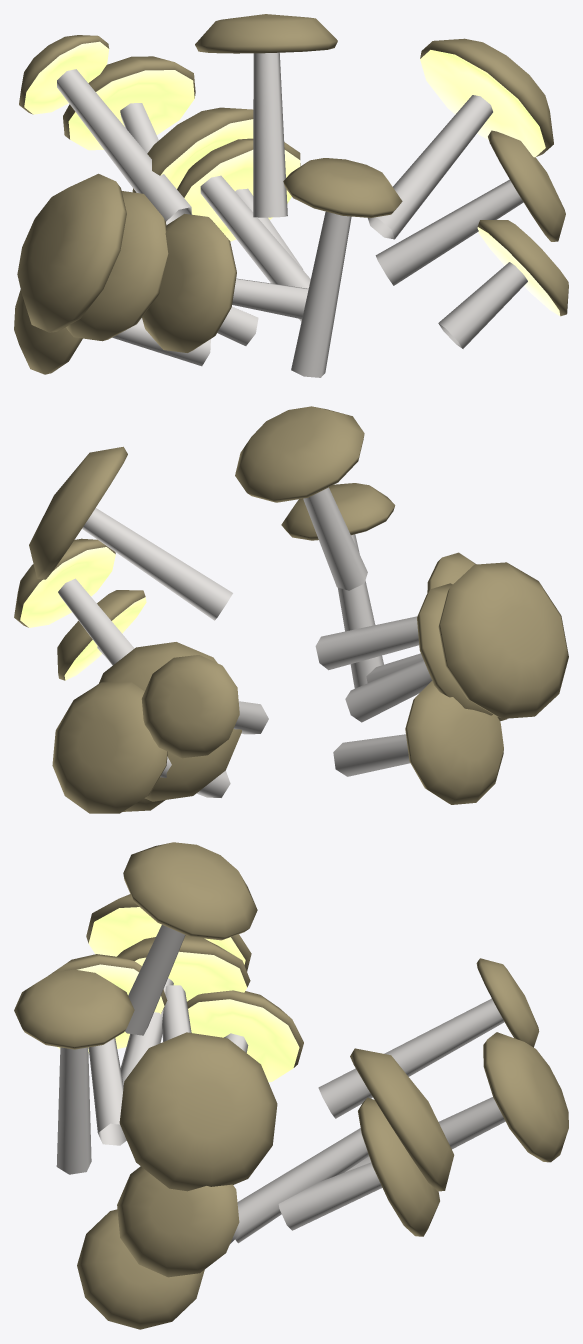
The model's file is rot_growths.glb.
The picture shows the model from 3 angles, top to bottom: view 1: azimuth 30°, elevation 25°; view 2: azimuth 150°, elevation 25°; view 3: azimuth 270°, elevation 25°; orthographic projection. The views are drawn at different scales.
Parts seen in each view (by area): view 1: RotGrowths; view 2: RotGrowths; view 3: RotGrowths.
Part boxes in pixels (x1,y1,x2,y2): RotGrowths: (14,14,568,377); RotGrowths: (14,406,568,813); RotGrowths: (14,842,568,1329).
Size of the model in its own units: 0.9138 by 0.5881 by 0.8153.
